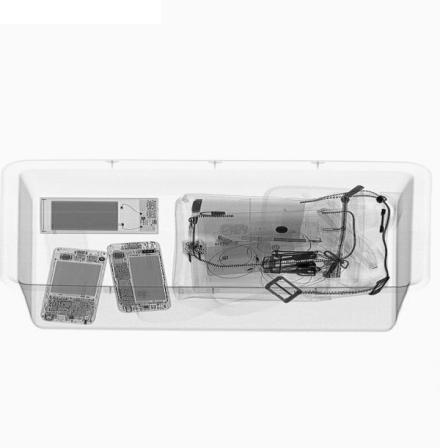Powerbank: (38, 197, 161, 234)
